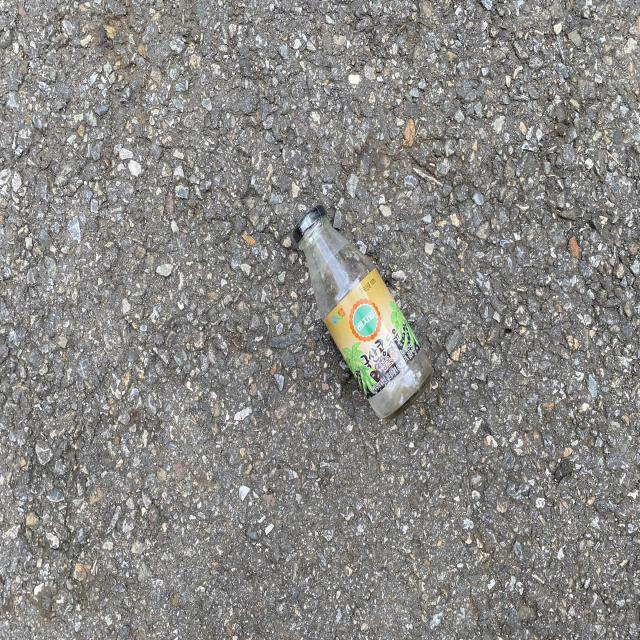glass: (293, 206, 432, 419)
